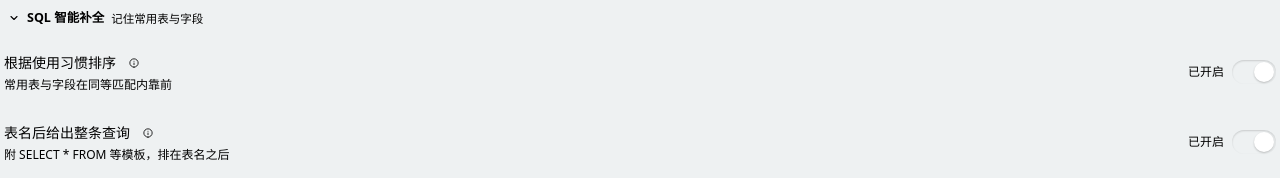
Scenario: 持久化失败保留会话设置，可在恢复存储后重试同一值
The image size is (1280, 178).
Click the switch named "根据使用习惯排序". click: (1254, 72)
box: x1=1232 y1=60 x2=1276 y2=84
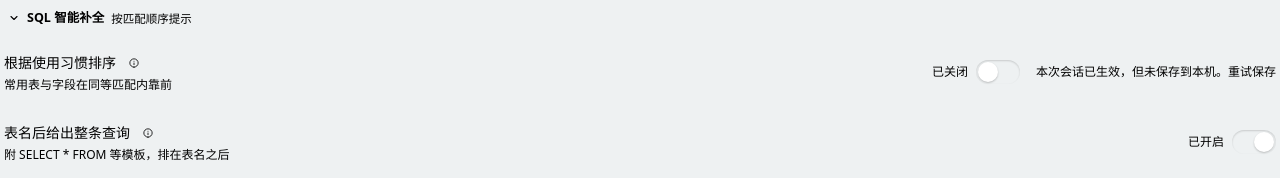
Check: the message "本次会话已生效，但未保存到本机。 重试保存" is shown, box x1=1036 y1=64 x2=1276 y2=80
Click the button "重试保存". click: (1252, 72)
box: x1=1228 y1=64 x2=1276 y2=80
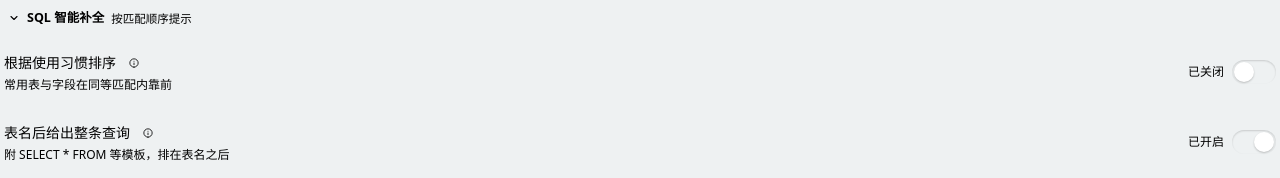
Check: the message "本次会话已生效，但未保存到本机。 重试保存" is gone
